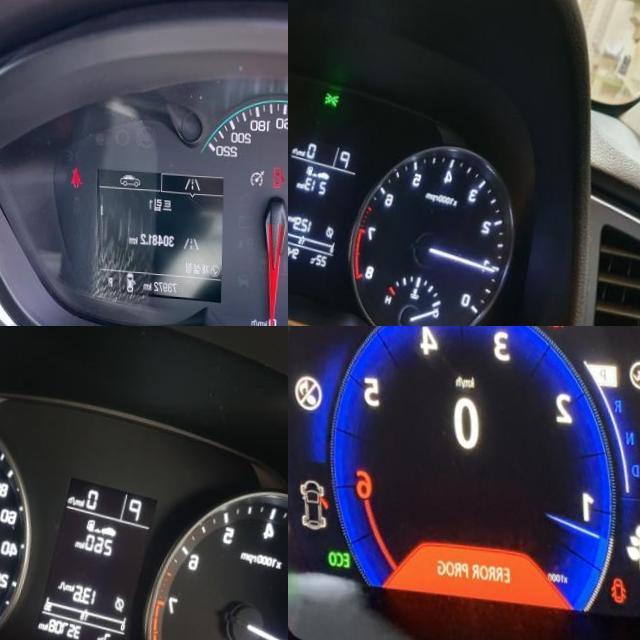Doors: (612, 569, 634, 598), (275, 162, 287, 185)
SideLamp: (325, 86, 344, 105)
